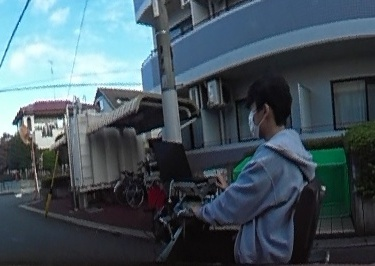person: (195, 73, 313, 266)
